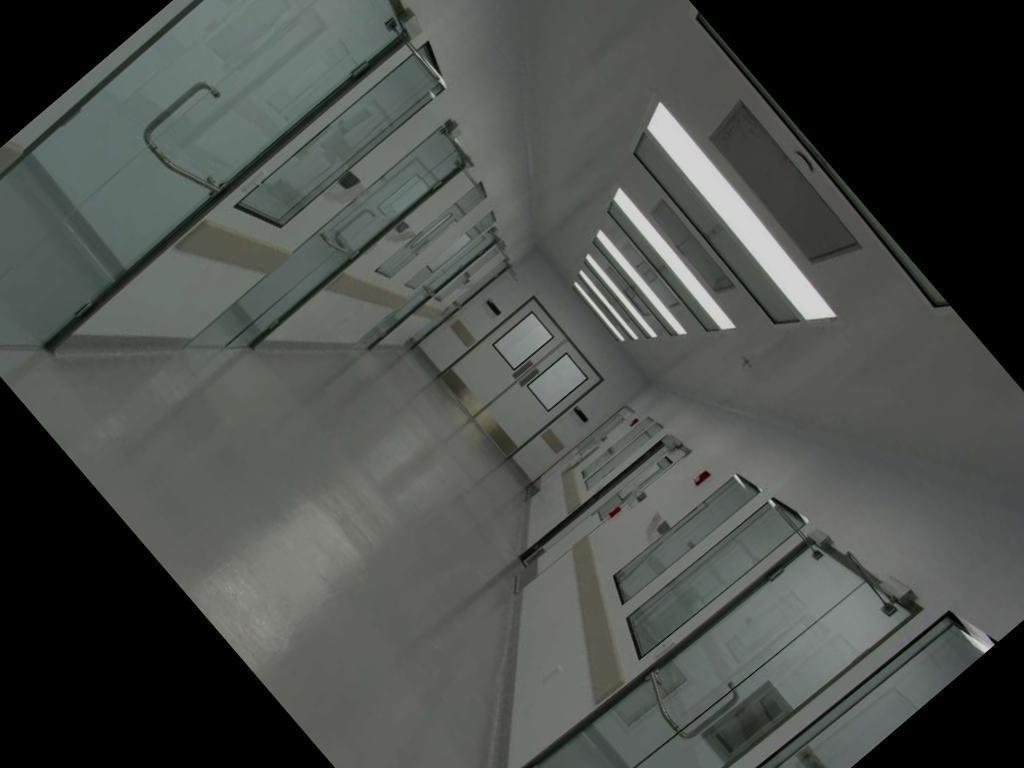Puerta: (0, 0, 451, 381), (422, 532, 887, 768), (193, 117, 481, 374), (440, 302, 599, 459)
